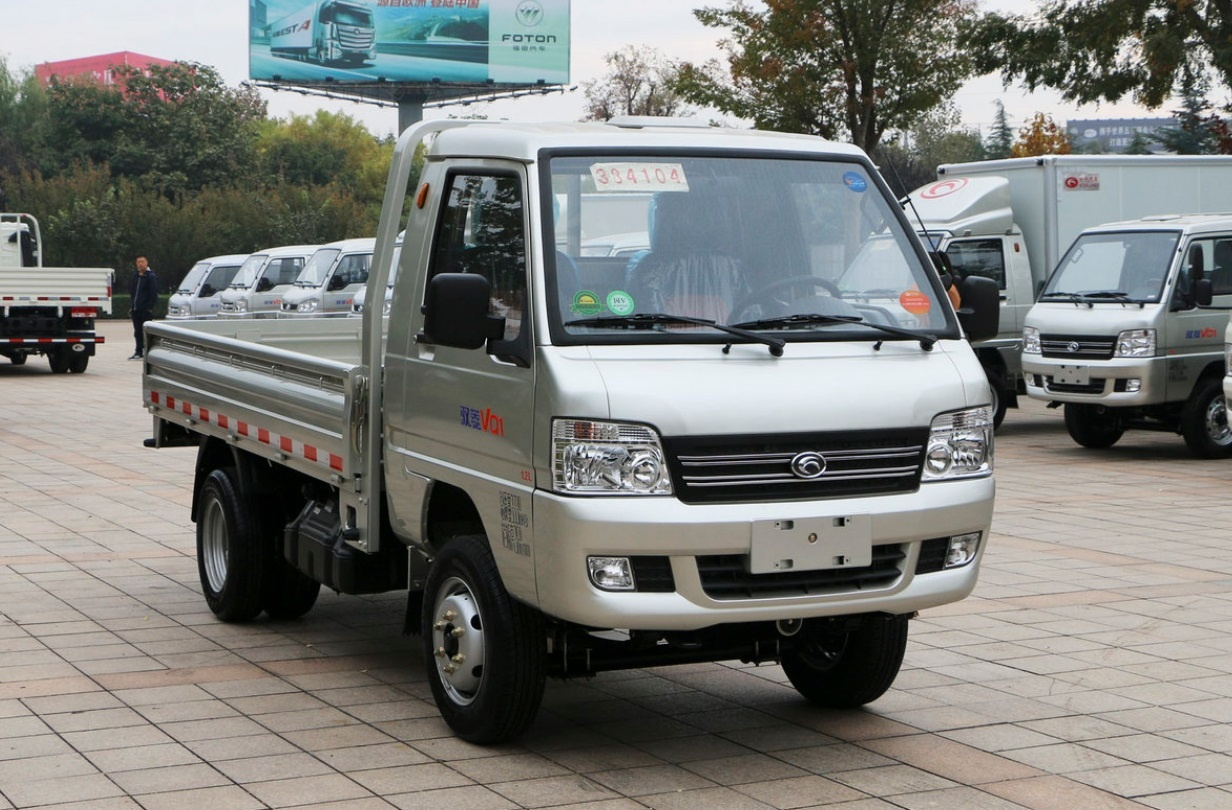truck: (146, 100, 994, 743)
